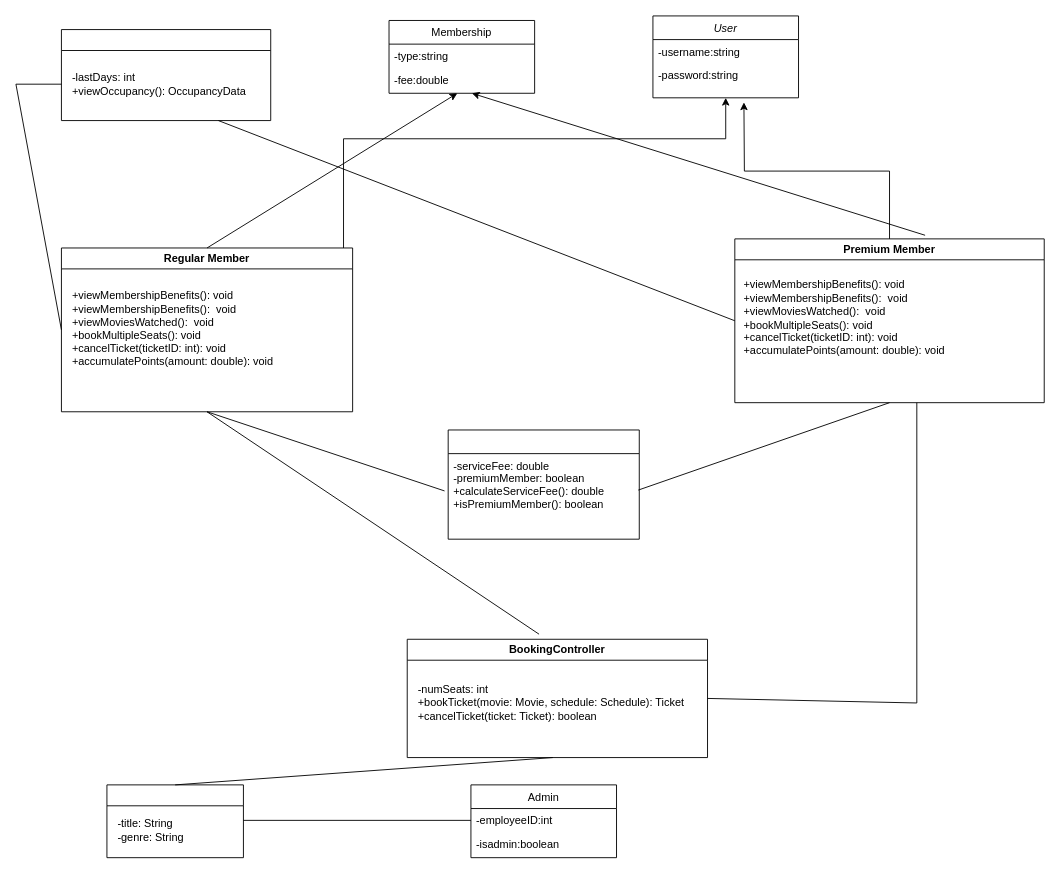
Image size: 1060x875. Some labels were removed from this diagram. The shapes that lost their labels are listed below. From the top down, each one's box as (x1, y1, x2, y2) in pixels, then its label:
(61, 29, 271, 121): Analytics Dashboard
(447, 429, 639, 539): Membership Controller
(106, 784, 243, 858): Movie
